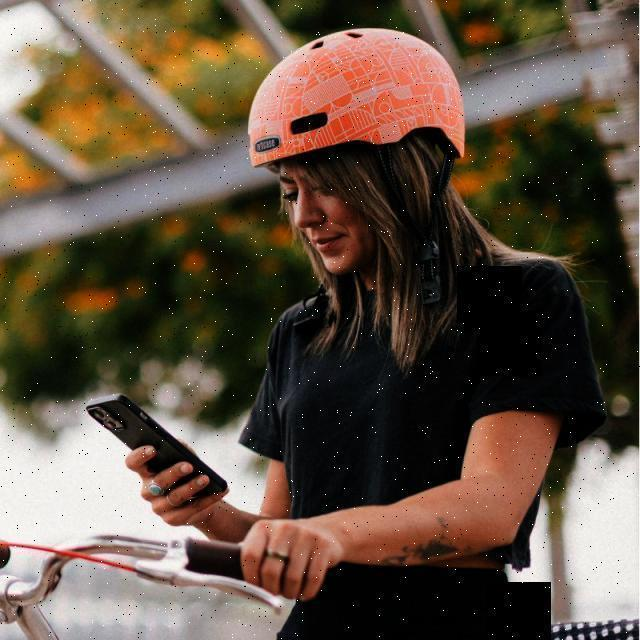helmet: (248, 28, 468, 284)
